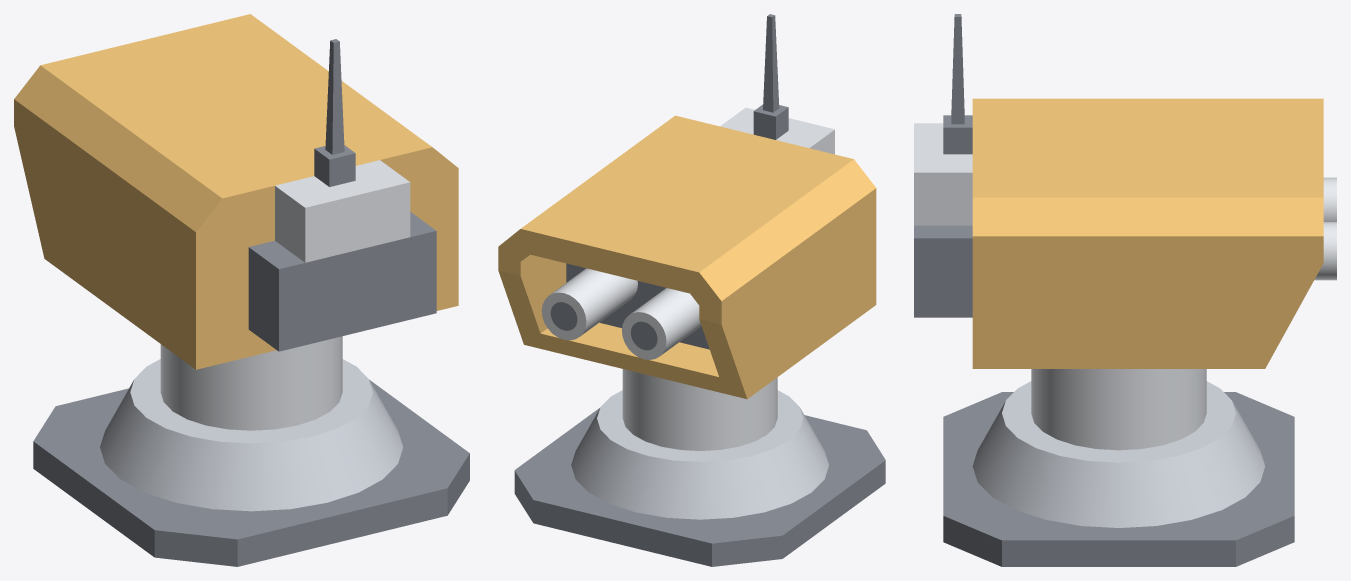
The model's file is turret_single.glb.
3 views of the same model, side by side, from view 1: azimuth 30°, elevation 25°; view 2: azimuth 150°, elevation 25°; view 3: azimuth 270°, elevation 25° (orthographic). The views are drawn at different scales.
Visible parts, largest first — view 1: turret.001, turret_single; view 2: turret.001, turret_single, Group, Group.001; view 3: turret.001, turret_single, Group, Group.001.
Boxes of the visible parts, <box> form: turret.001: <box>14,14,458,369</box>; turret_single: <box>33,336,469,566</box>; turret.001: <box>498,14,876,399</box>; turret_single: <box>514,369,885,566</box>; Group: <box>541,268,637,340</box>; Group.001: <box>622,288,701,359</box>; turret.001: <box>914,14,1323,368</box>; turret_single: <box>943,369,1294,566</box>; Group: <box>1314,222,1336,280</box>; Group.001: <box>1323,177,1336,221</box>.
Size of the model in its own units: 0.6 by 0.9 by 0.7224.
